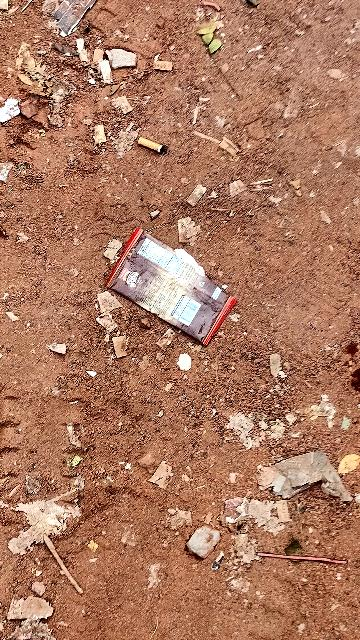packet: (96, 223, 269, 365)
